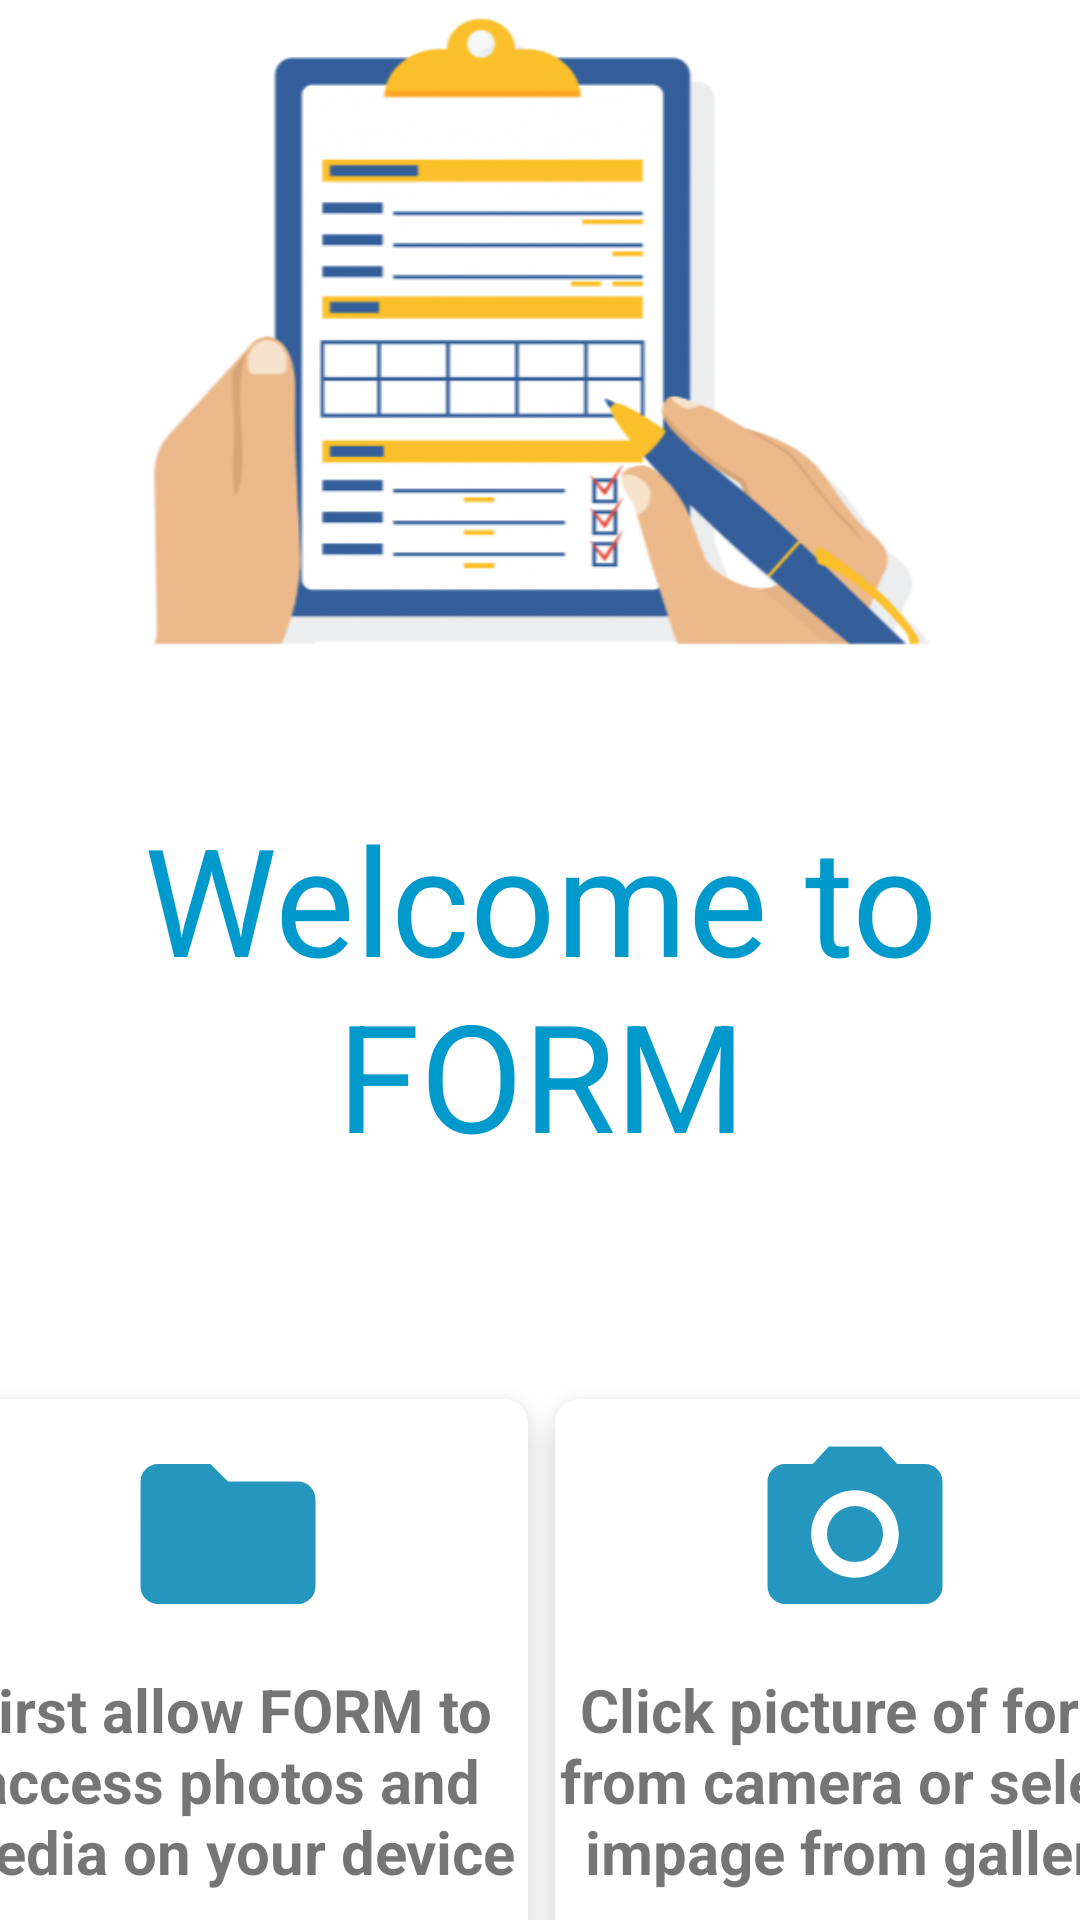

Locate icon controls on the screen. Image size 1080px×1920px, boxes as (x1, y1, x2, y2).
folder: (140, 1464, 316, 1604)
